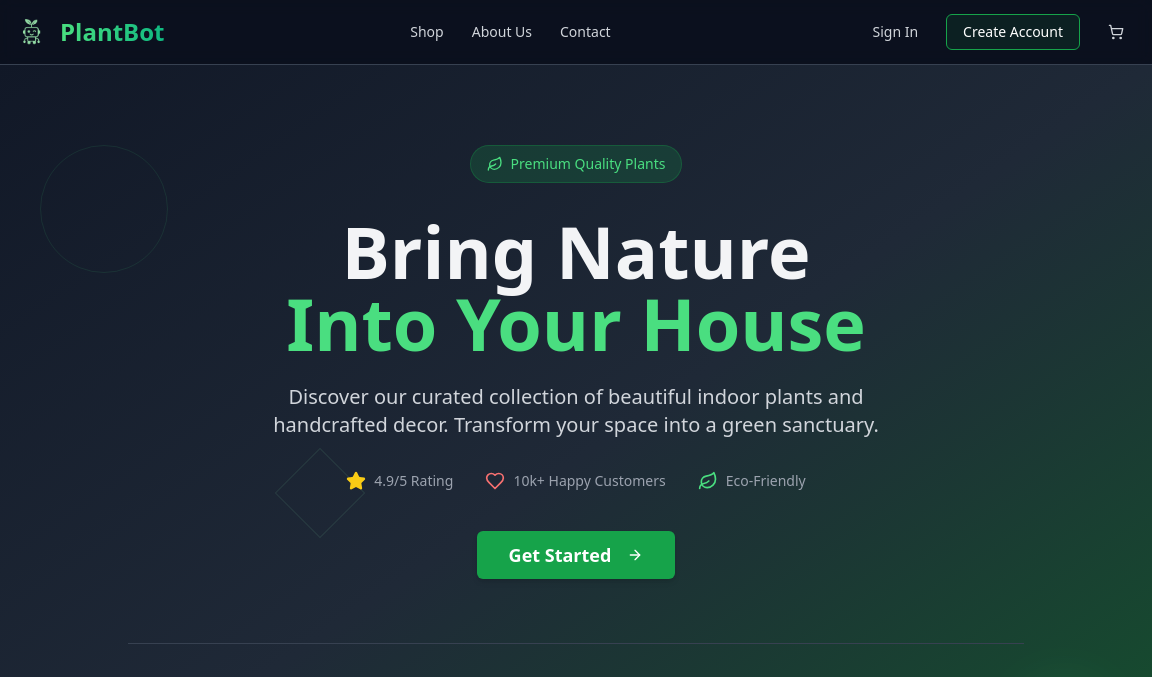
Test: PlantBot sign up Test cases › TC-22: Validate to check if user can enter valid details on Full name field during sign up
Click the button with test id "get-started-btn" at (577, 555), box [477, 531, 676, 579]
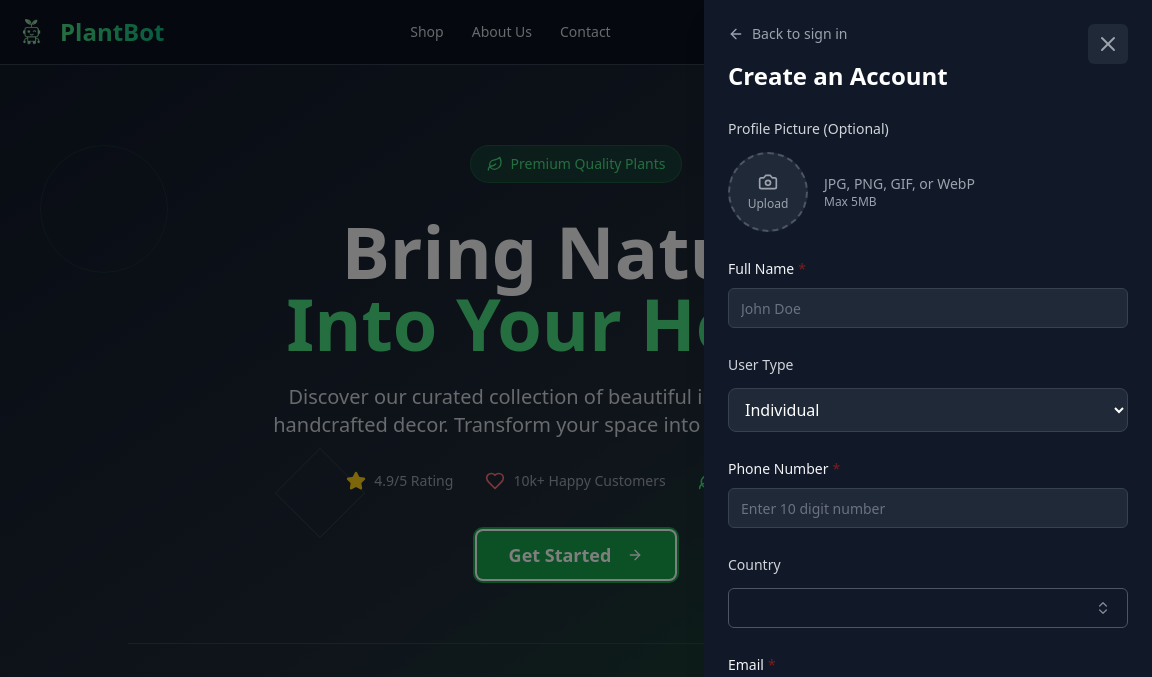
Type "John Paul" into the field named "fullName" at (928, 308), box [728, 288, 1128, 328]
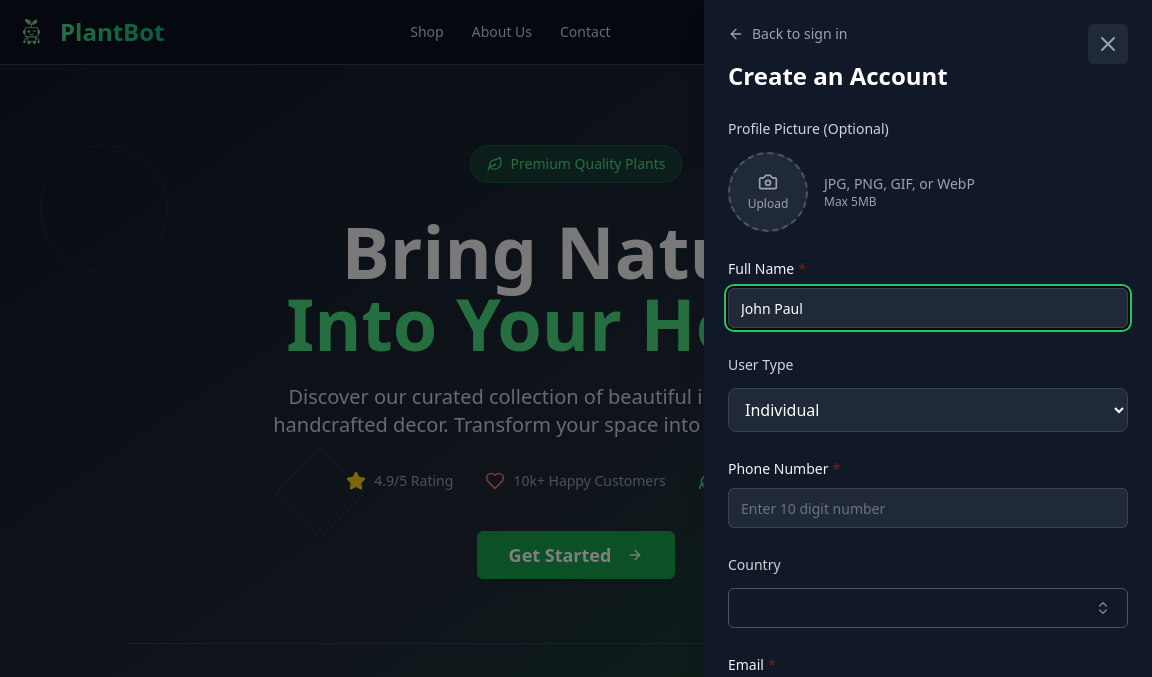
Scroll
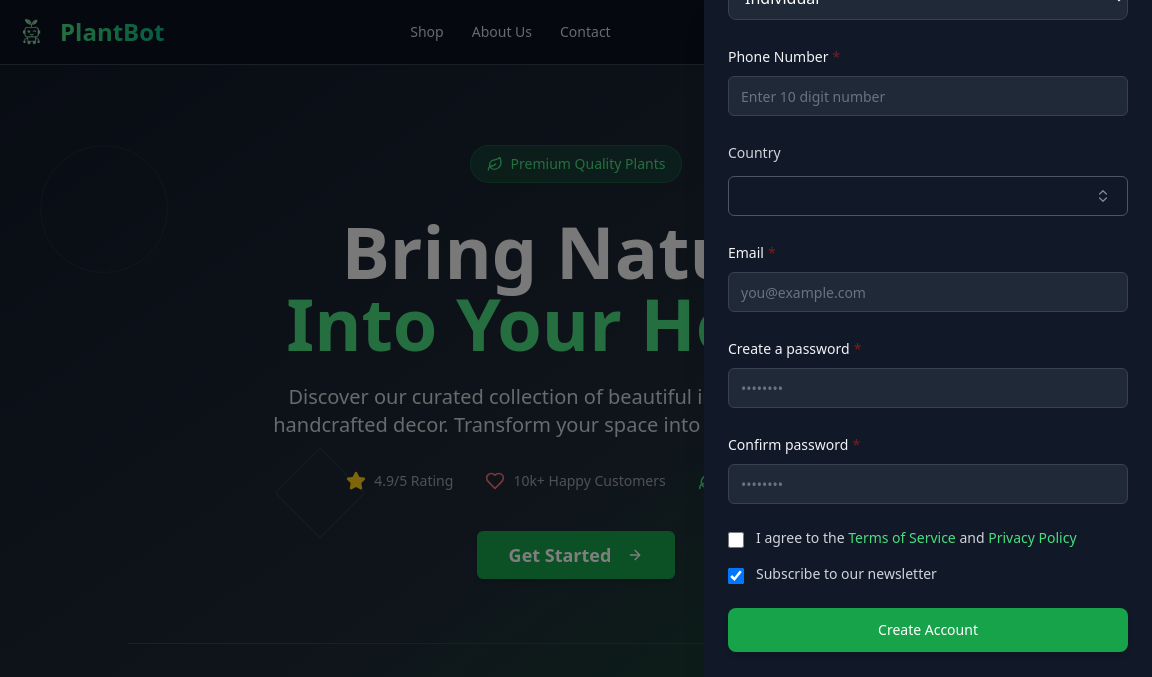
Click the button "Create Account" at (928, 630), box [728, 608, 1128, 652]
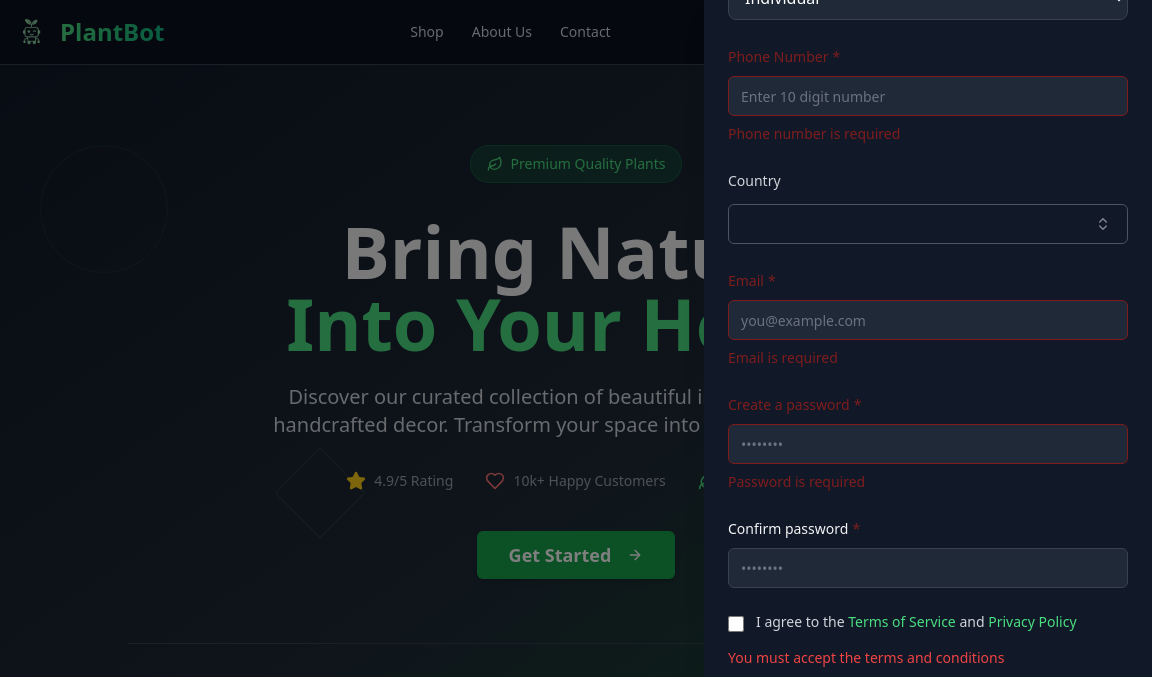
Now the text "Phone number is required" is shown, box [728, 124, 900, 143]
